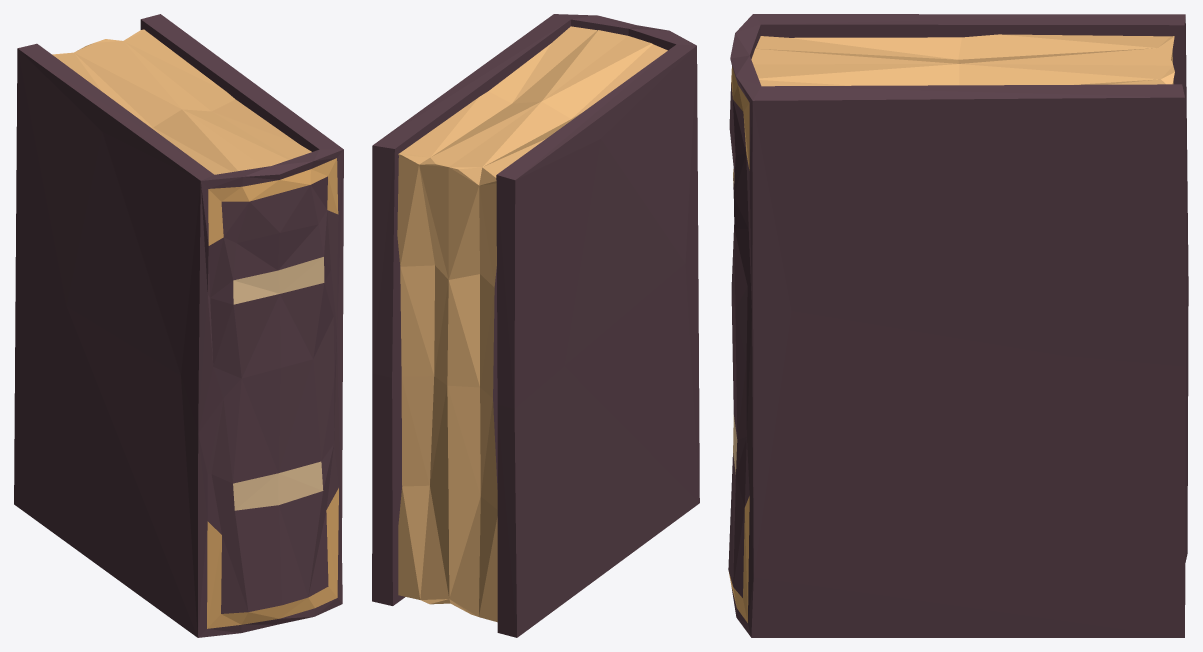
File: Book_014.fbx
3 renders of one model, left to right at view 1: azimuth 30°, elevation 25°; view 2: azimuth 150°, elevation 25°; view 3: azimuth 270°, elevation 25°, orthographic. The views are drawn at different scales.
Parts seen in each view (by area): view 1: Book_014; view 2: Book_014; view 3: Book_014.
Part boxes in pixels (box(x1,y1,x2,y2)): Book_014: box(14, 14, 343, 637); Book_014: box(372, 14, 699, 637); Book_014: box(728, 14, 1188, 637).
Size of the model in its own units: 0.106 by 0.3153 by 0.2418.
